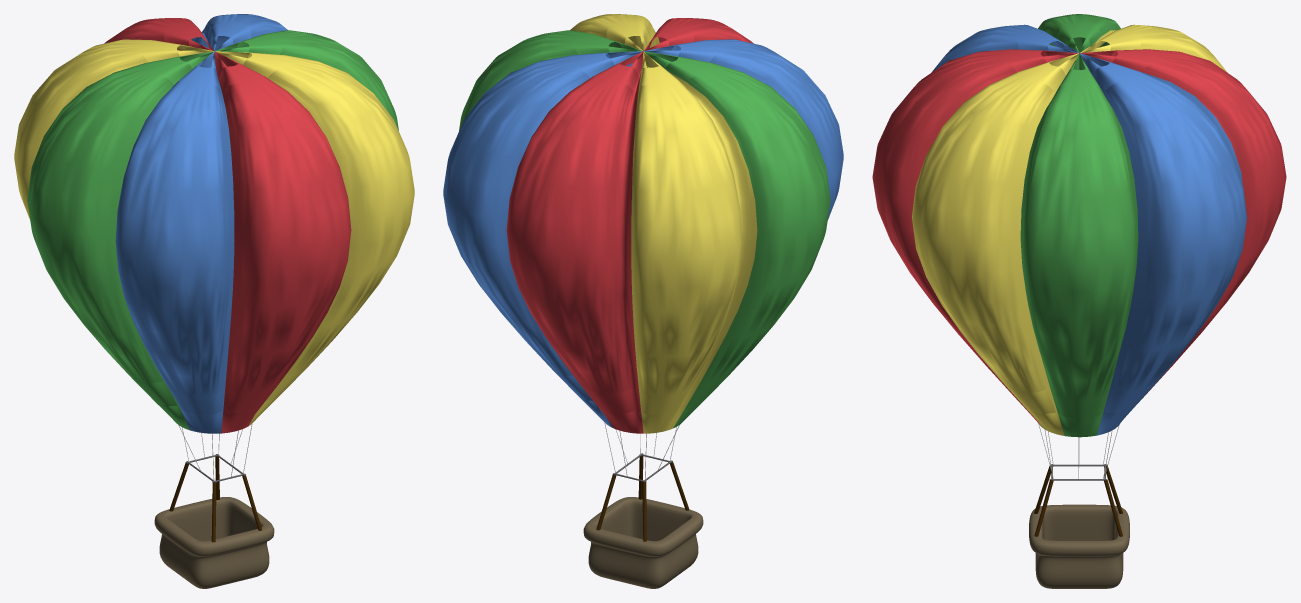
Rendered from hotairballoon.dae.
The picture shows the model from 3 angles, left to right: view 1: azimuth 30°, elevation 25°; view 2: azimuth 150°, elevation 25°; view 3: azimuth 270°, elevation 25°; orthographic projection.
Parts seen in each view (by area): view 1: Cylinder002, Box001; view 2: Cylinder002, Box001; view 3: Cylinder002, Box001.
Boxes of the visible parts, x1,y1,x2,y2 form: Cylinder002: [14, 14, 414, 433]; Box001: [154, 497, 274, 588]; Cylinder002: [443, 14, 843, 433]; Box001: [583, 497, 703, 588]; Cylinder002: [872, 14, 1286, 437]; Box001: [1029, 504, 1129, 588].
Bounding box in the file's own units: 31.15 × 31.15 × 43.35.
